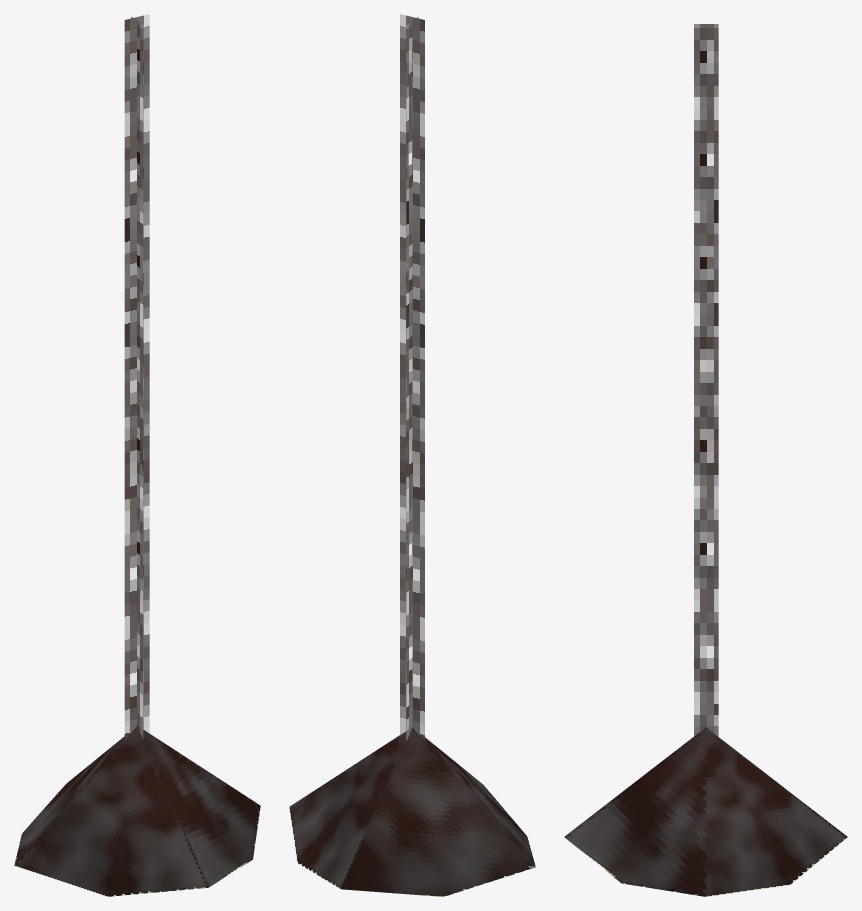
File: hanginglight.glb
3 views of the same model, side by side, from view 1: azimuth 30°, elevation 25°; view 2: azimuth 150°, elevation 25°; view 3: azimuth 270°, elevation 25° (orthographic).
Visible parts, largest first — view 1: Light; view 2: Light; view 3: Light.
Part boxes in pixels (x1,y1,x2,y2): Light: (14, 14, 260, 896); Light: (289, 14, 535, 896); Light: (564, 24, 847, 896).
Size of the model in its own units: 4.1 by 13.22 by 4.1.
Materials: 2 (2 with a texture image).
